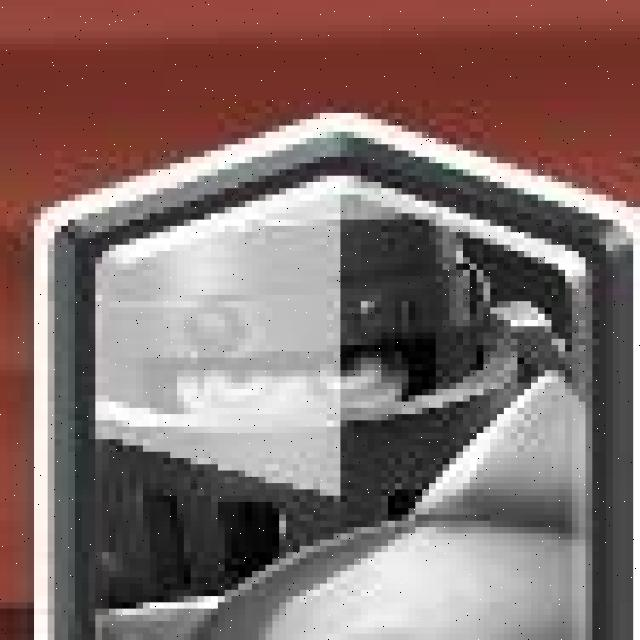Mega_Knight: (55, 120, 635, 640)
